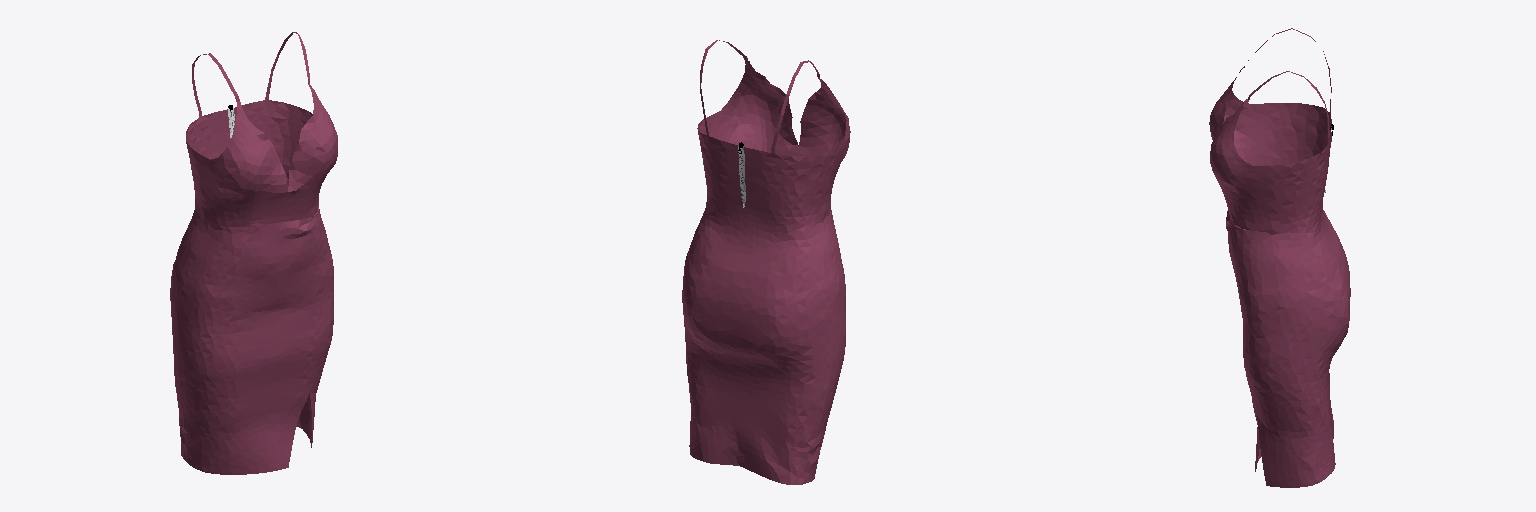
3 views of the same model, side by side, from view 1: azimuth 30°, elevation 25°; view 2: azimuth 150°, elevation 25°; view 3: azimuth 270°, elevation 25° (orthographic).
Parts seen in each view (by area): view 1: small_roseDress_noinside:polySurface2 small_roseDress_noinside:p; view 2: small_roseDress_noinside:polySurface2 small_roseDress_noinside:p; view 3: small_roseDress_noinside:polySurface2 small_roseDress_noinside:p.
Part boxes in pixels (left/top/right/bottom): small_roseDress_noinside:polySurface2 small_roseDress_noinside:p: left=170, top=32, right=337, bottom=474; small_roseDress_noinside:polySurface2 small_roseDress_noinside:p: left=682, top=40, right=850, bottom=484; small_roseDress_noinside:polySurface2 small_roseDress_noinside:p: left=1209, top=28, right=1350, bottom=487.
Size of the model in its own units: 13.06 by 35.13 by 10.81.
Materials: 13 (2 with a texture image).